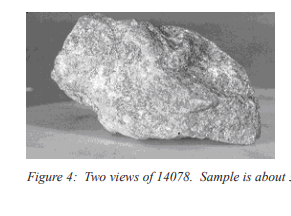Basalt: (43, 14, 261, 146)
